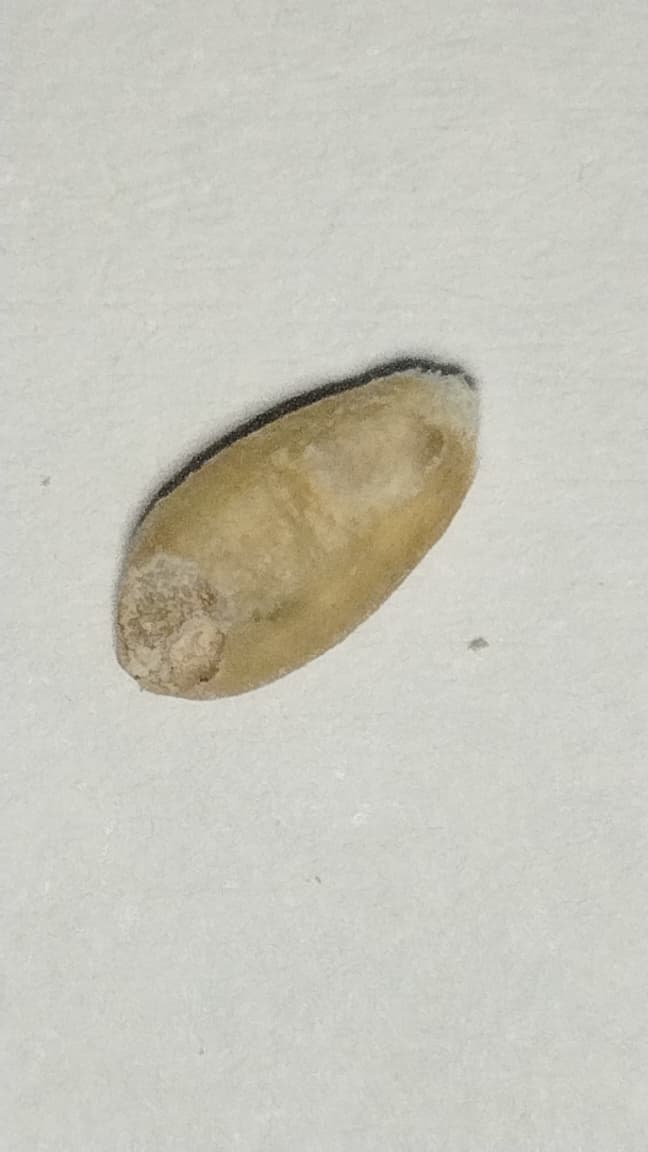damage: (118, 368, 479, 698)
insectdamage: (268, 377, 444, 512), (125, 548, 286, 678)
